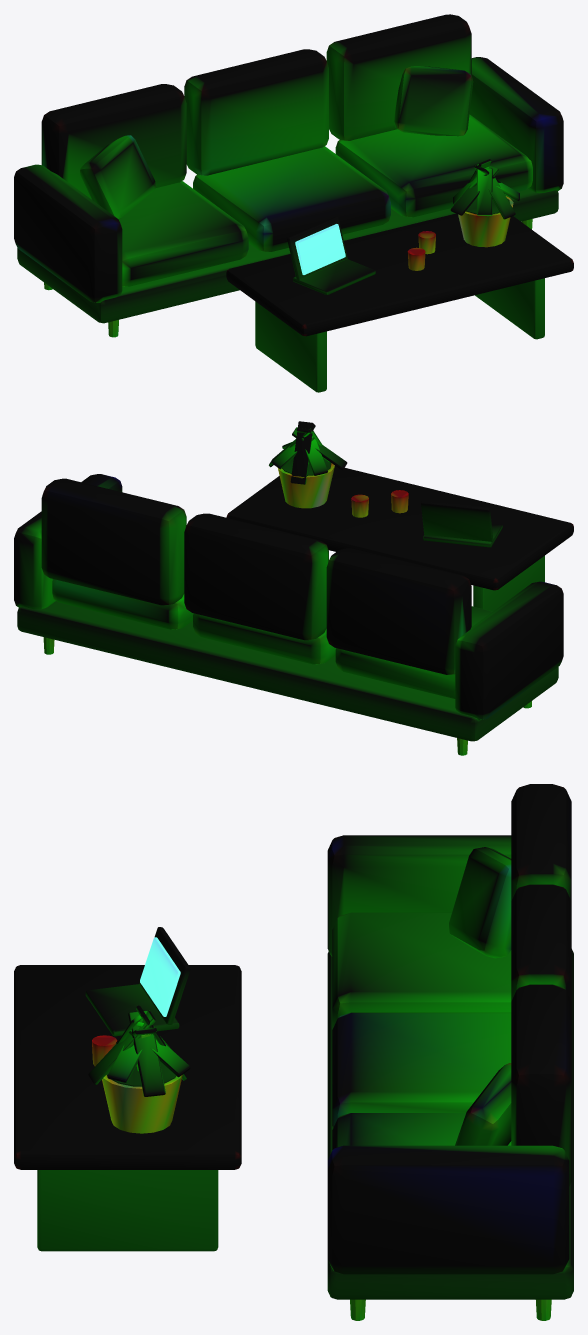
Rendered from hero_sofa_lounge.glb.
3 views of the same model, one above another, from view 1: azimuth 30°, elevation 25°; view 2: azimuth 150°, elevation 25°; view 3: azimuth 270°, elevation 25° (orthographic). The views are drawn at different scales.
Parts seen in each view (by area): view 1: HeroSofaLounge; view 2: HeroSofaLounge; view 3: HeroSofaLounge.
Boxes of the visible parts, x1,y1,x2,y2 form: HeroSofaLounge: [14, 14, 573, 392]; HeroSofaLounge: [14, 421, 573, 755]; HeroSofaLounge: [14, 784, 573, 1320].
Size of the model in its own units: 3.4 by 1.18 by 2.41.
